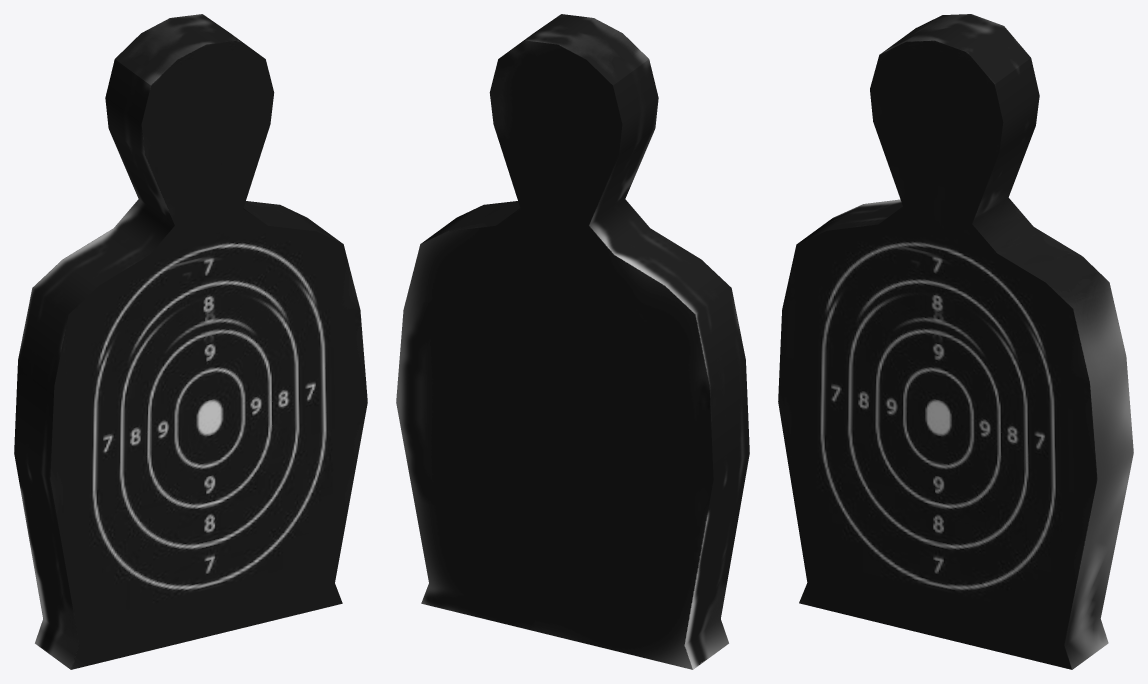
3 views of the same model, side by side, from view 1: azimuth 30°, elevation 25°; view 2: azimuth 150°, elevation 25°; view 3: azimuth 330°, elevation 25° (orthographic).
Parts seen in each view (by area): view 1: pCube1; view 2: pCube1; view 3: pCube1.
Part boxes in pixels (<box>): pCube1: <box>14,14,367,669</box>; pCube1: <box>396,14,749,669</box>; pCube1: <box>778,14,1133,669</box>.
Bounding box in the file's own units: 2.09 × 3.72 × 0.413.
1 material, 1 textured.
